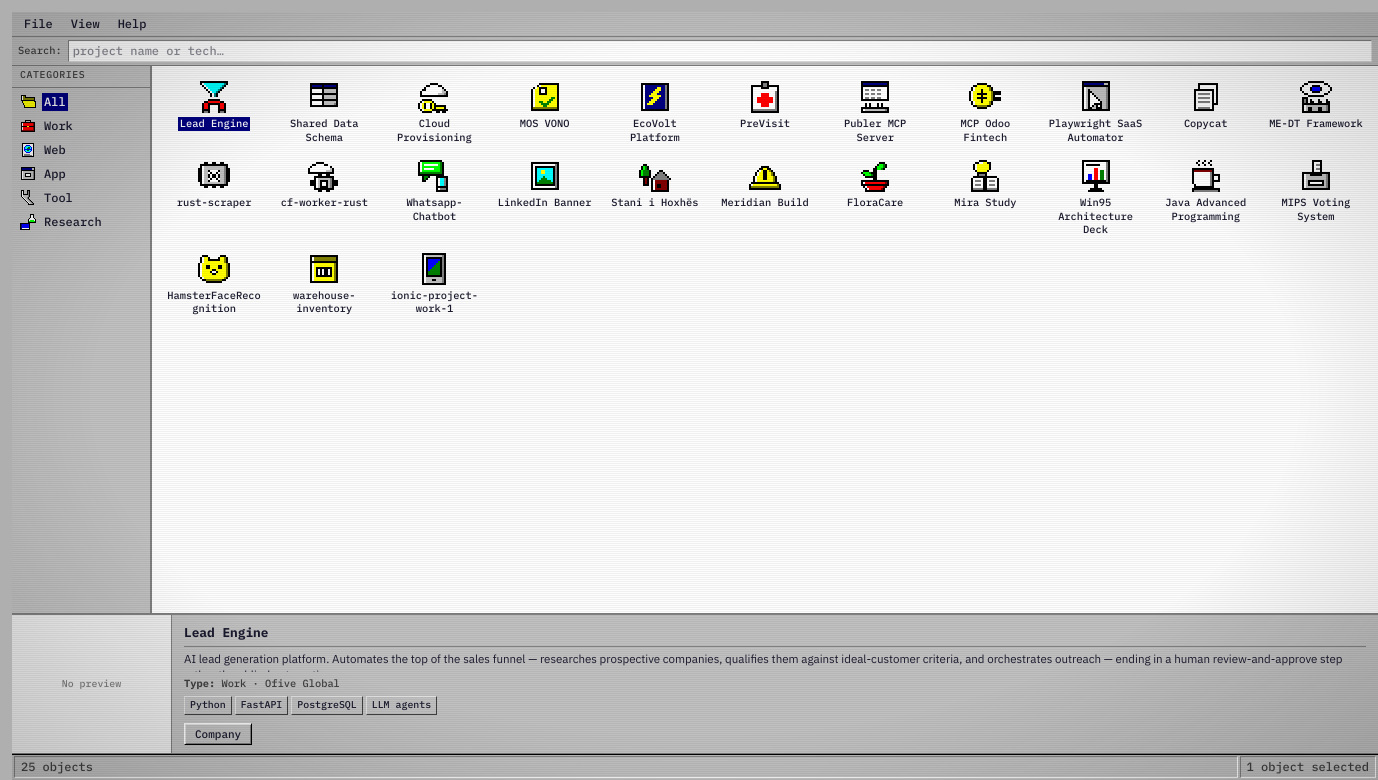
Test: MyWorkExplorer detail pane › keeps the sunken note, not a button, for a project with no link
What coordinates should you click on to do the following:
click the button with class "explorer-tile" showing "EcoVolt Platform"
I would click on:
 (655, 112)
Its box is 601,74 -> 709,151.
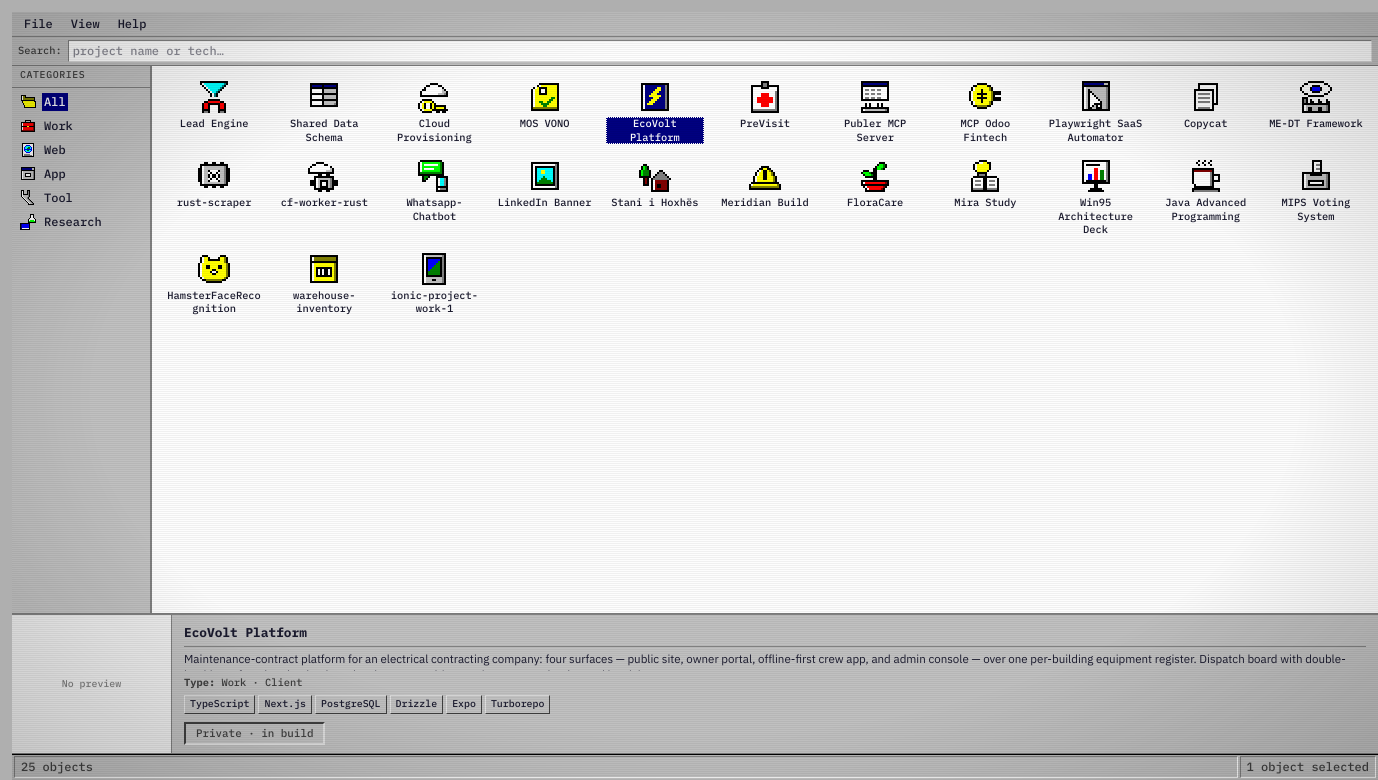
Result: the link with class "explorer-open-btn" is gone
Result: the text "Private · in build" is shown at 184,722 -> 326,745
